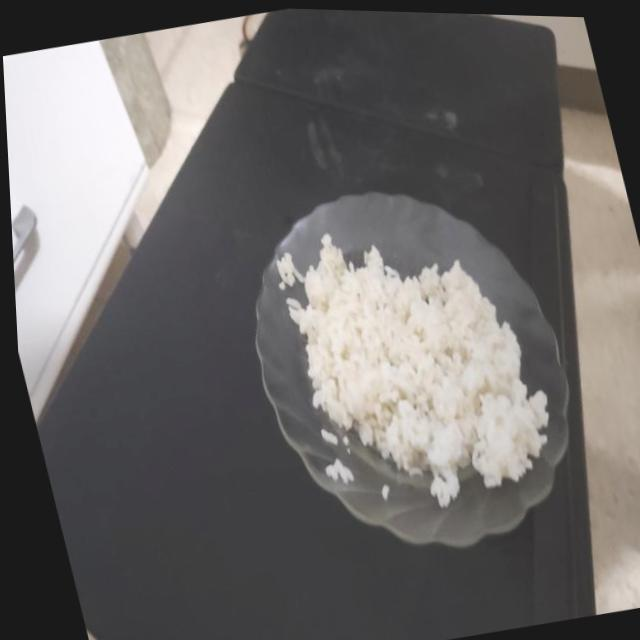nasi_putih: (277, 234, 548, 496)
